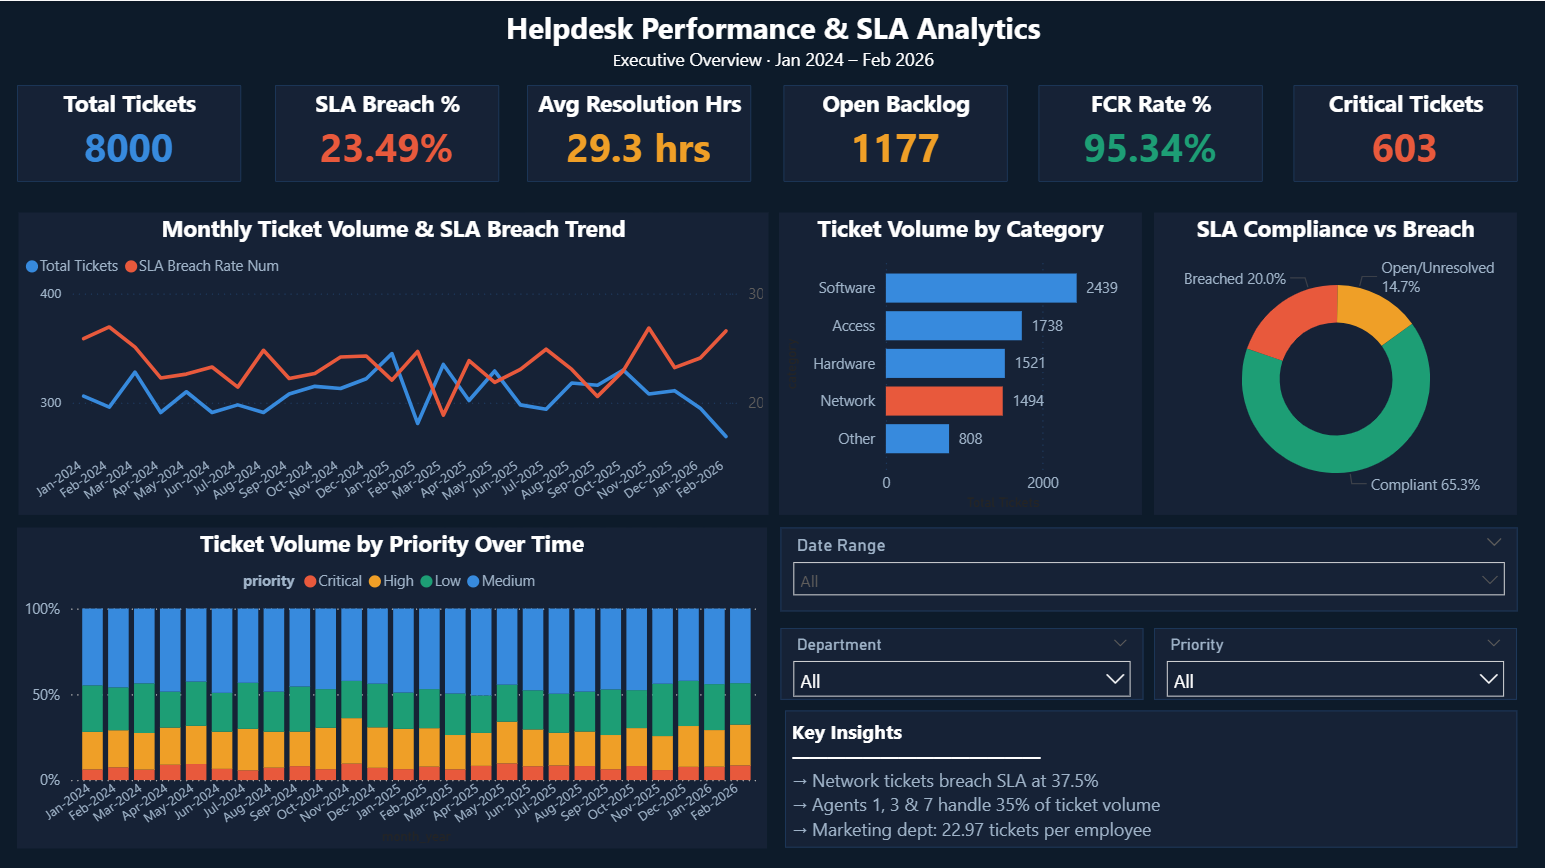

The page's visual inventory and layout, read from the dashboard file:
{"tool":"powerbi","page":{"name":"Executive Overview","canvas":[1280,720],"ordinal":0},"visuals":[{"type":"card","title":"Total Tickets","fields":{"Values":["Measures_.Total Tickets"]},"box":[15,70,185,80],"z":0},{"type":"textbox","box":[0,0,1280,67.1],"z":1000},{"type":"card","title":"Critical Tickets","fields":{"Values":["Measures_.Critical Tickets"]},"box":[1070,70,185,80],"z":2000},{"type":"card","title":"SLA Breach %","fields":{"Values":["Measures_.SLA Breach Rate %"]},"box":[228,70,185,80],"z":3000},{"type":"card","title":"Avg Resolution Hrs","fields":{"Values":["Measures_.Avg Resolution Hrs"]},"box":[437,70,185,80],"z":4000},{"type":"card","title":"Open Backlog","fields":{"Values":["Measures_.Open Backlog"]},"box":[648,70,185,80],"z":5000},{"type":"card","title":"FCR Rate %","fields":{"Values":["Measures_.FCR Rate %"]},"box":[859,70,185,80],"z":6000},{"type":"lineChart","title":"Monthly Ticket Volume & SLA Breach Trend","fields":{"Category":["vw_tickets_full.month_year"],"Y":["Measures_.Total Tickets"],"Y2":["Measures_.SLA Breach Rate Num"]},"box":[15.8,175,620,250],"z":7000},{"type":"clusteredBarChart","title":"Ticket Volume by Category","fields":{"Category":["vw_tickets_full.category"],"Y":["Measures_.Total Tickets"]},"box":[645,175,300,250],"z":8000},{"type":"donutChart","title":"SLA Compliance vs Breach","fields":{"Category":["vw_tickets_full.SLA Status"],"Y":["Measures_.Total Tickets"]},"box":[954.9,175.2,300.2,250],"z":9000},{"type":"hundredPercentStackedColumnChart","title":"Ticket Volume by Priority Over Time","fields":{"Category":["vw_tickets_full.month_year"],"Series":["vw_tickets_full.priority"],"Y":["Measures_.Total Tickets"]},"box":[15.5,435.5,619.8,265.5],"z":10000},{"type":"slicer","fields":{"Values":["vw_tickets_full.created_date"]},"box":[645.6,435.5,609.5,69.6],"z":11000},{"type":"slicer","fields":{"Values":["vw_tickets_full.dept_name"]},"box":[645.6,518,300.2,59.3],"z":12000},{"type":"slicer","fields":{"Values":["vw_tickets_full.dept_name"]},"box":[954.9,518,300.2,59.3],"z":13000},{"type":"textbox","box":[649.5,586.3,605.6,113.4],"z":14000}]}

Visuals, with their boxes in screenshot pixels (x1, y1, x2, y2), scaled from the page's 1280x720 canvas onto the 1545x868 screenshot:
"Total Tickets" card: 18:84:241:181
textbox: 0:0:1544:81
"Critical Tickets" card: 1292:84:1515:181
"SLA Breach %" card: 275:84:499:181
"Avg Resolution Hrs" card: 527:84:751:181
"Open Backlog" card: 782:84:1005:181
"FCR Rate %" card: 1037:84:1260:181
"Monthly Ticket Volume & SLA Breach Trend" lineChart: 19:211:767:512
"Ticket Volume by Category" clusteredBarChart: 779:211:1141:512
"SLA Compliance vs Breach" donutChart: 1153:211:1515:513
"Ticket Volume by Priority Over Time" hundredPercentStackedColumnChart: 19:525:767:845
slicer - vw_tickets_full.created_date: 779:525:1515:609
slicer - vw_tickets_full.dept_name: 779:624:1142:696
slicer - vw_tickets_full.dept_name: 1153:624:1515:696
textbox: 784:707:1515:844
